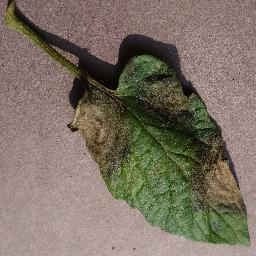Late Blight: (71, 54, 253, 249)
